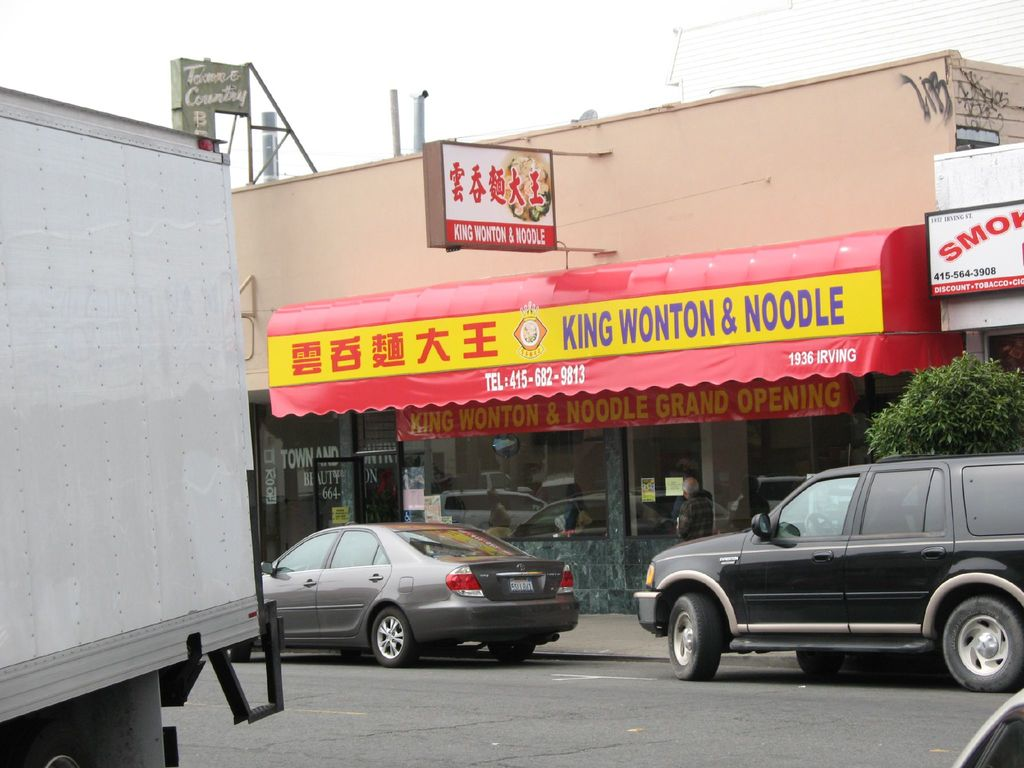mobil: (639, 446, 1024, 696), (252, 517, 583, 676)
